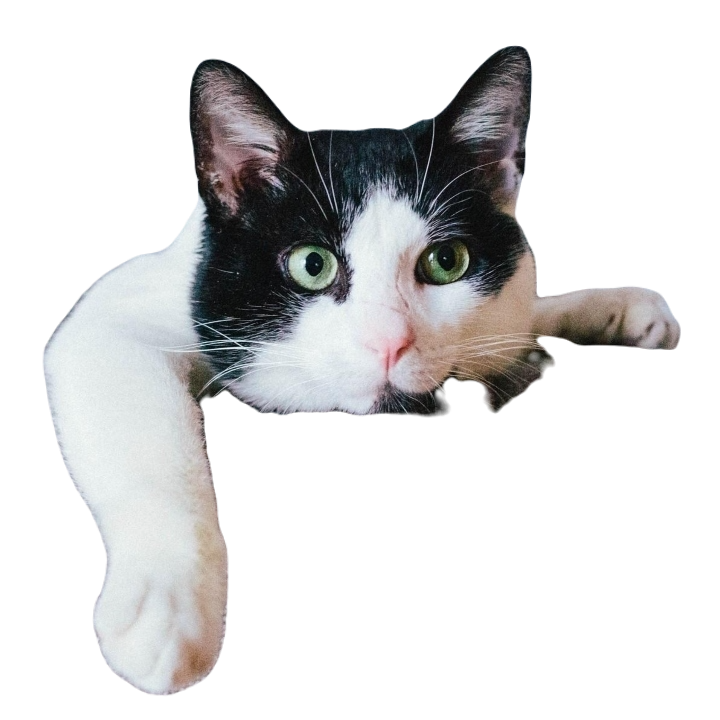Cat: (19, 38, 719, 687)
